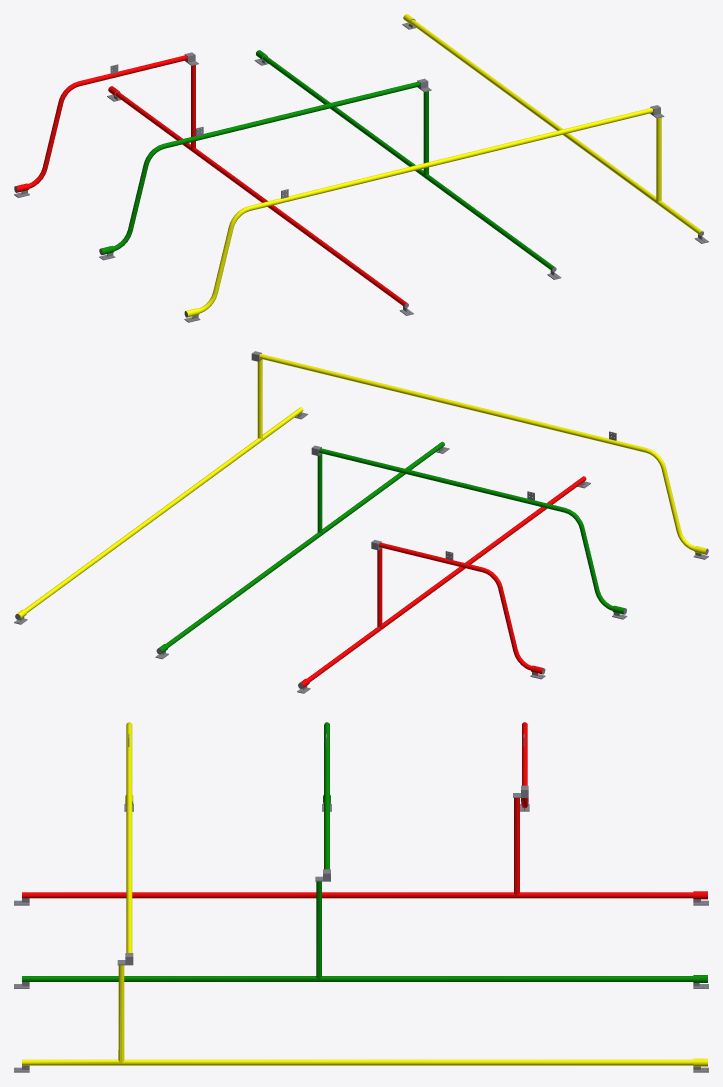
Rendered from Ошиновка вторая очередь РН-СЭЩ.fbx.
3 views of the same model, one above another, from view 1: azimuth 30°, elevation 25°; view 2: azimuth 150°, elevation 25°; view 3: azimuth 270°, elevation 25° (orthographic). The views are drawn at different scales.
Visible parts, largest first — view 1: Ошиновка РН-СЭЩ (Вторая очередь); view 2: Ошиновка РН-СЭЩ (Вторая очередь); view 3: Ошиновка РН-СЭЩ (Вторая очередь).
Part boxes in pixels (box(x1,y1,x2,y2)): Ошиновка РН-СЭЩ (Вторая очередь): box(14, 14, 708, 322); Ошиновка РН-СЭЩ (Вторая очередь): box(14, 351, 708, 693); Ошиновка РН-СЭЩ (Вторая очередь): box(14, 722, 708, 1072).
Bounding box in the file's own units: 6412 × 1390 × 7030.
